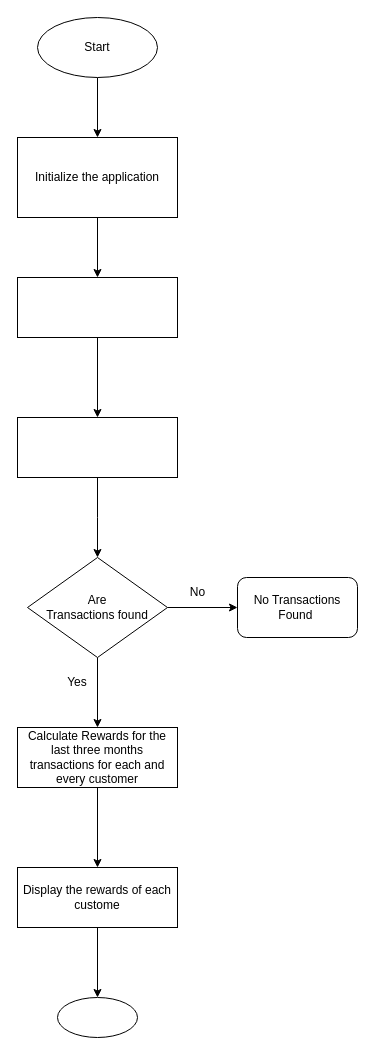
Some shapes in this 375 by 1055 pixel diagram are drawn without their labels. Each missing label, with the centre of its shape:
"Call API to fetch transactions for last three months" belongs at (97,447).
"Connect to database" belongs at (97,307).
"End" belongs at (97,1017).
